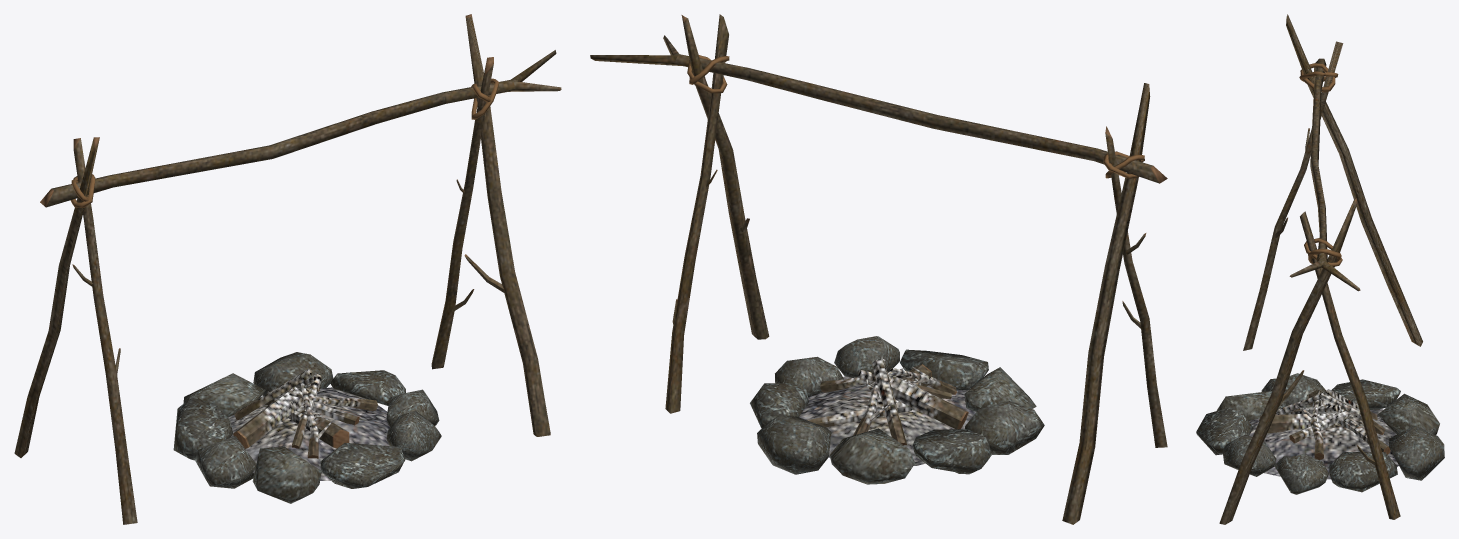
The model's file is CAMP_supportSticks.FBX.
3 renders of one model, left to right at view 1: azimuth 30°, elevation 25°; view 2: azimuth 150°, elevation 25°; view 3: azimuth 270°, elevation 25°, orthographic. The views are drawn at different scales.
Parts seen in each view (by area): view 1: CAMP_supportSticks, Object002, CAMP_campfire; view 2: CAMP_supportSticks, Object002, CAMP_campfire; view 3: CAMP_supportSticks, Object002, CAMP_campfire.
Boxes of the visible parts, box(x1,y1,x2,y2) form: CAMP_supportSticks: box(14, 14, 561, 524); Object002: box(173, 352, 441, 503); CAMP_campfire: box(228, 369, 389, 480); CAMP_supportSticks: box(590, 14, 1167, 524); Object002: box(750, 336, 1044, 484); CAMP_campfire: box(799, 359, 975, 465); CAMP_supportSticks: box(1219, 14, 1422, 524); Object002: box(1196, 373, 1444, 494); CAMP_campfire: box(1249, 389, 1398, 479).
Bounding box in the file's own units: 205 × 142 × 93.04.
2 materials, 2 textured.
